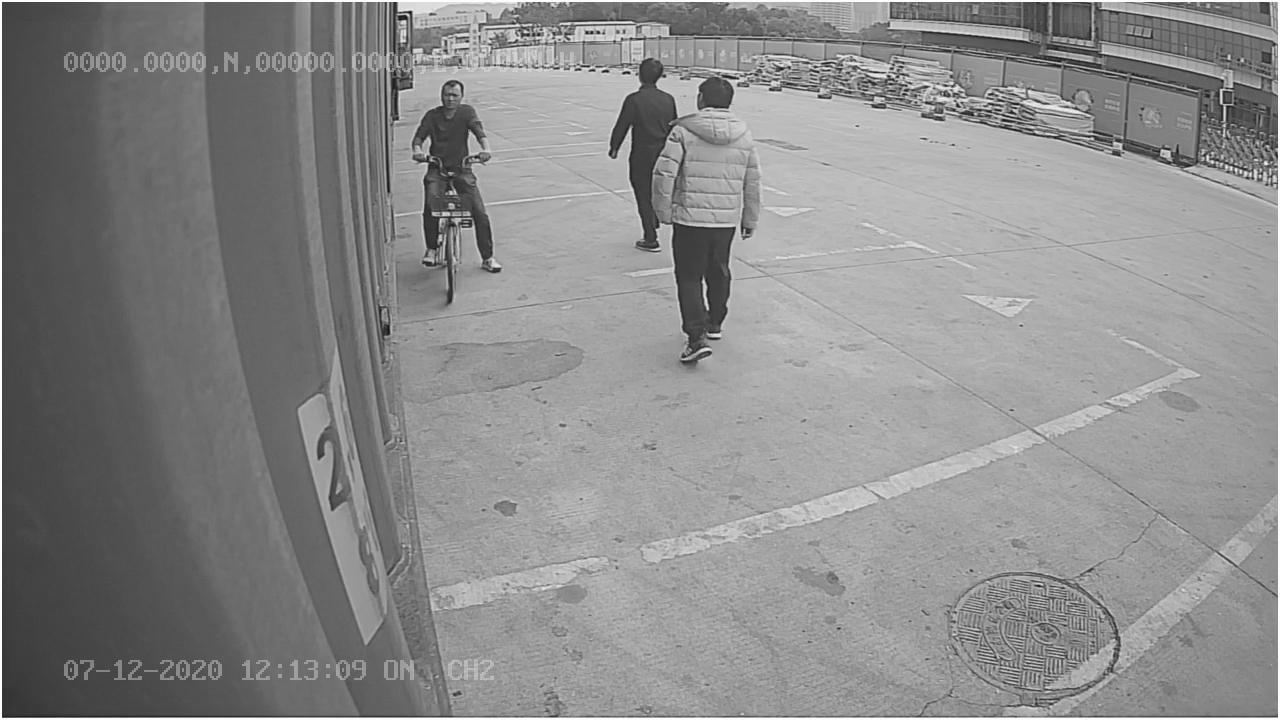person: (652, 73, 766, 365)
